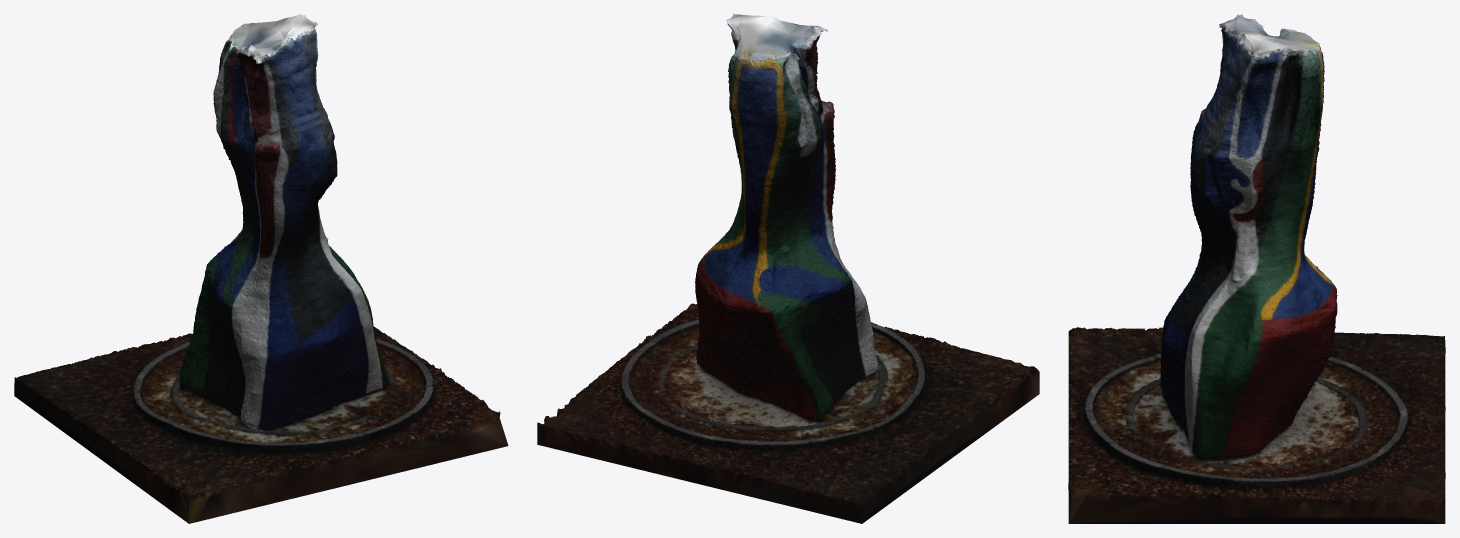
The model's file is Statue_large.glb.
The picture shows the model from 3 angles, left to right: view 1: azimuth 30°, elevation 25°; view 2: azimuth 150°, elevation 25°; view 3: azimuth 270°, elevation 25°; orthographic projection. The views are drawn at different scales.
Parts seen in each view (by area): view 1: Mesh_0_Part_0; view 2: Mesh_0_Part_0; view 3: Mesh_0_Part_0.
Boxes of the visible parts, box(x1,y1,x2,y2) form: Mesh_0_Part_0: box(14, 14, 508, 523); Mesh_0_Part_0: box(537, 14, 1039, 523); Mesh_0_Part_0: box(1068, 14, 1445, 523).
Size of the model in its own units: 28.96 by 33.56 by 27.46.
1 material, 1 textured.
